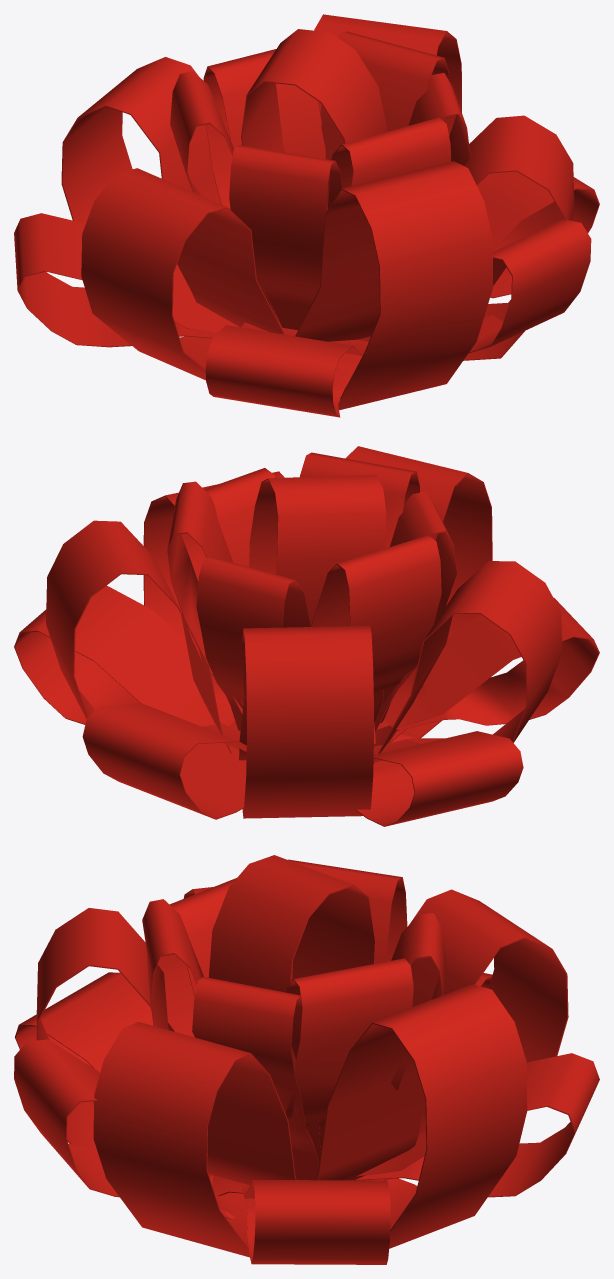
File: bow.obj
3 views of the same model, one above another, from view 1: azimuth 30°, elevation 25°; view 2: azimuth 150°, elevation 25°; view 3: azimuth 270°, elevation 25° (orthographic). The views are drawn at different scales.
Visible parts, largest first — view 1: obj3; view 2: obj3; view 3: obj3.
Part boxes in pixels (x1,y1,x2,y2): obj3: (14,14,599,417); obj3: (14,446,599,826); obj3: (14,855,599,1264).
Size of the model in its own units: 18.74 by 9.87 by 17.51.
